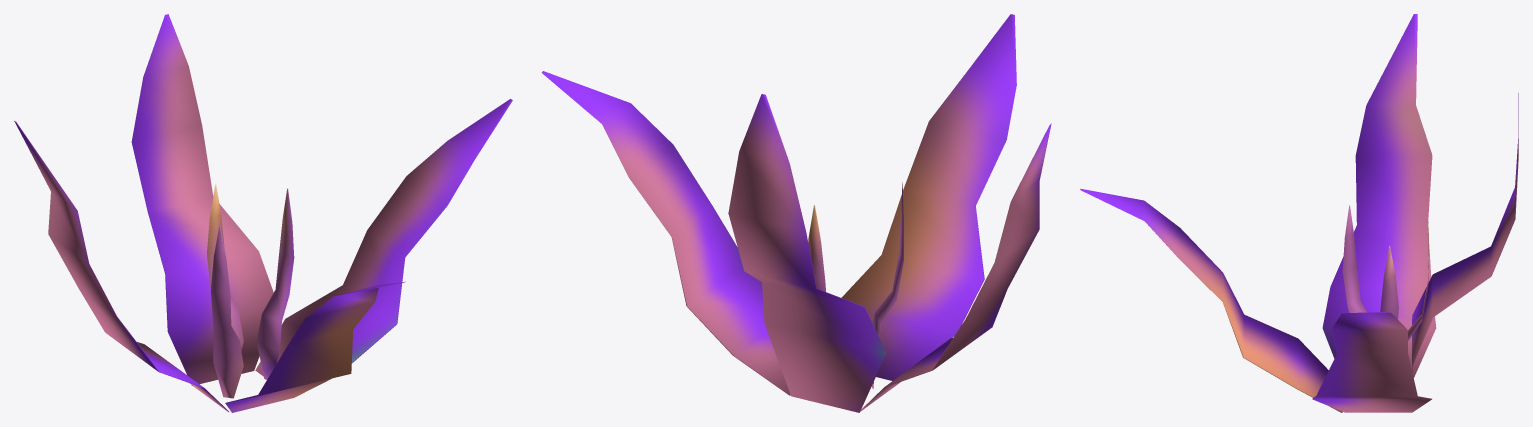
File: PlantinhaVerao.fbx
3 renders of one model, left to right at view 1: azimuth 30°, elevation 25°; view 2: azimuth 150°, elevation 25°; view 3: azimuth 270°, elevation 25°, orthographic. The views are drawn at different scales.
Parts seen in each view (by area): view 1: PlantinhaVerao; view 2: PlantinhaVerao; view 3: PlantinhaVerao.
Boxes of the visible parts, x1,y1,x2,y2 form: PlantinhaVerao: (14, 14, 512, 412); PlantinhaVerao: (541, 14, 1051, 412); PlantinhaVerao: (1080, 14, 1518, 412).
Size of the model in its own units: 86.43 by 55.65 by 72.63.
